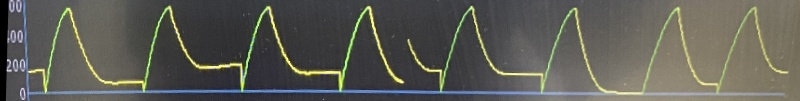leakage: (20, 0, 742, 99)
